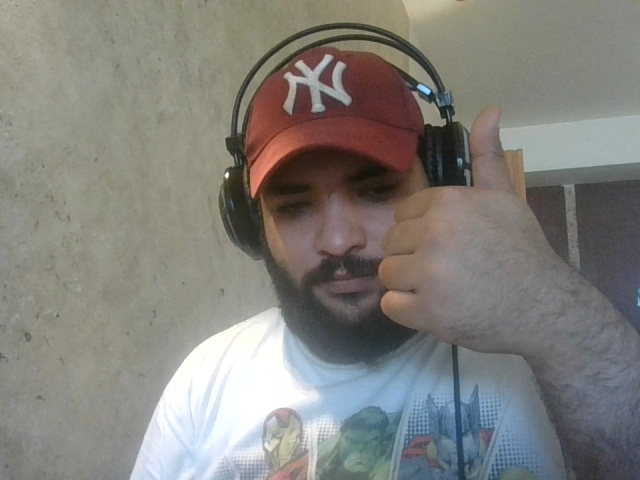yes: (375, 103, 563, 370)
